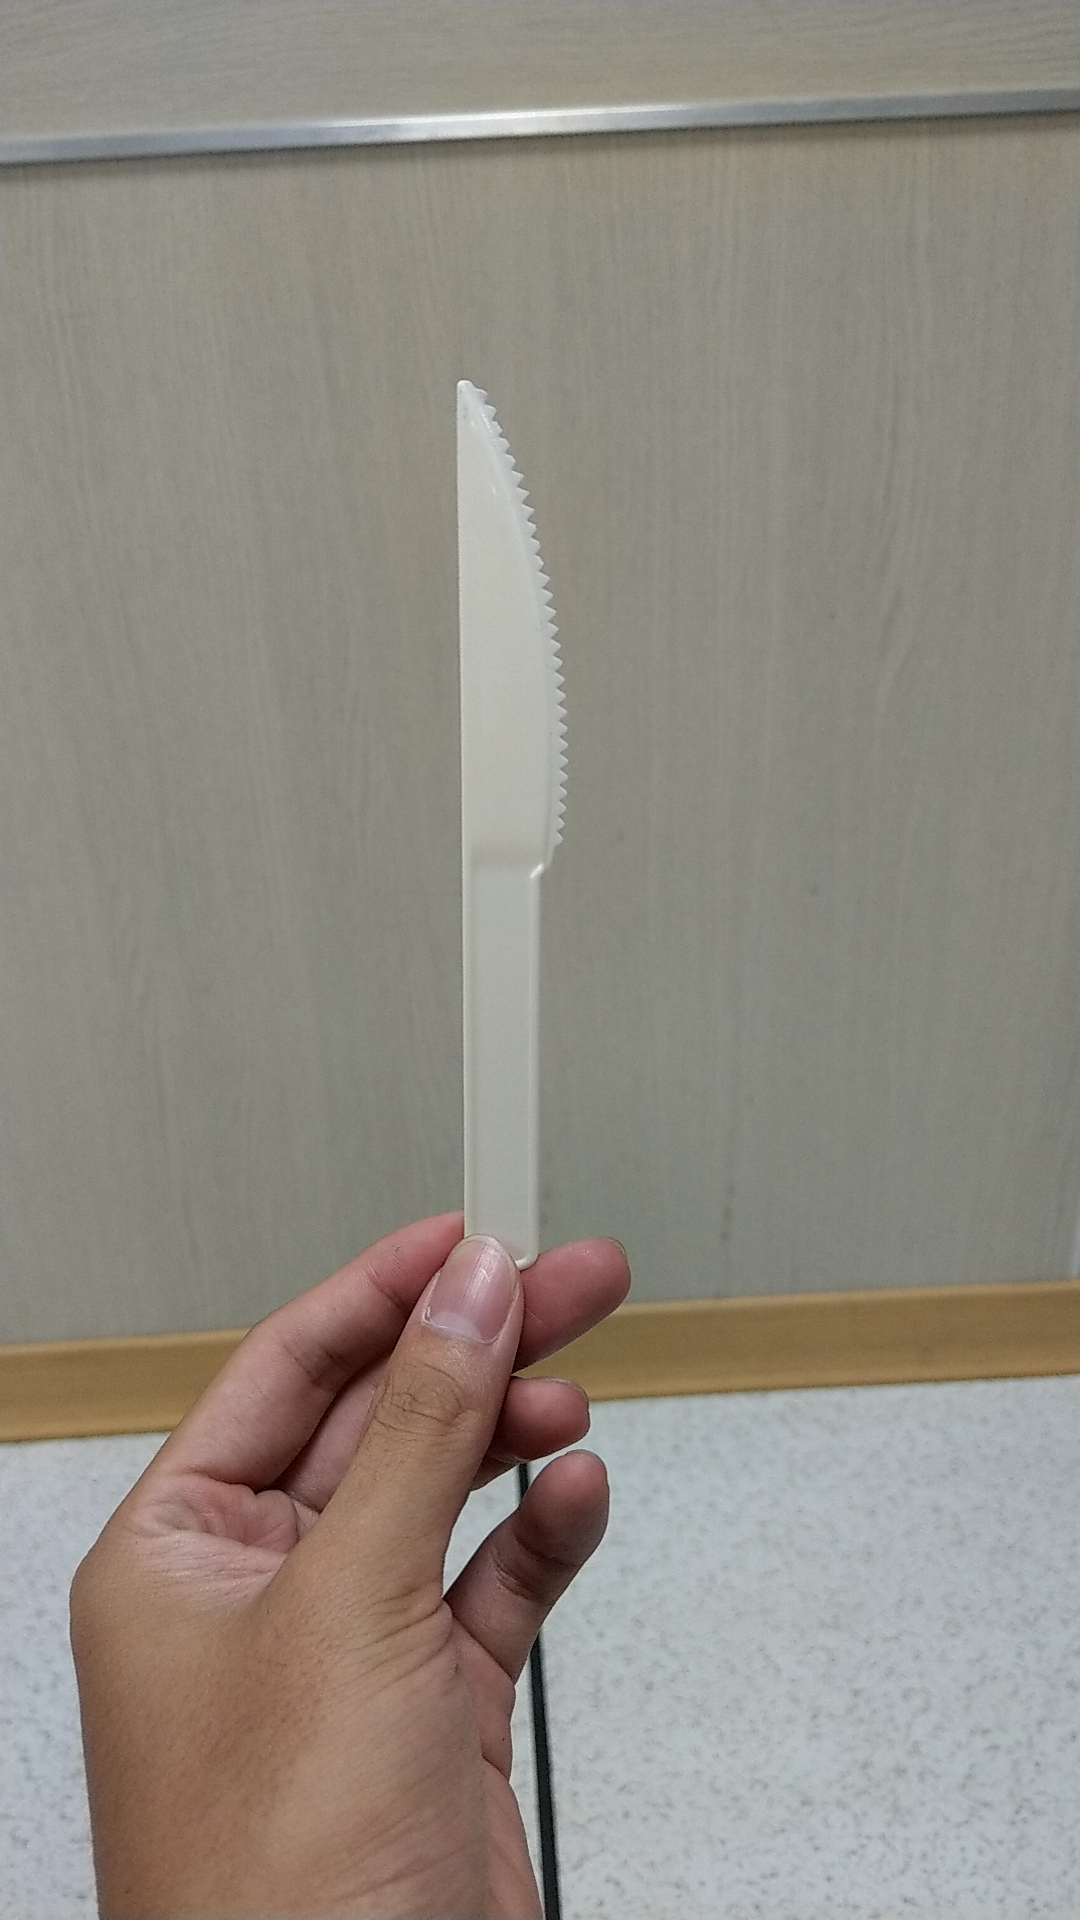knife: (407, 357, 615, 1250)
